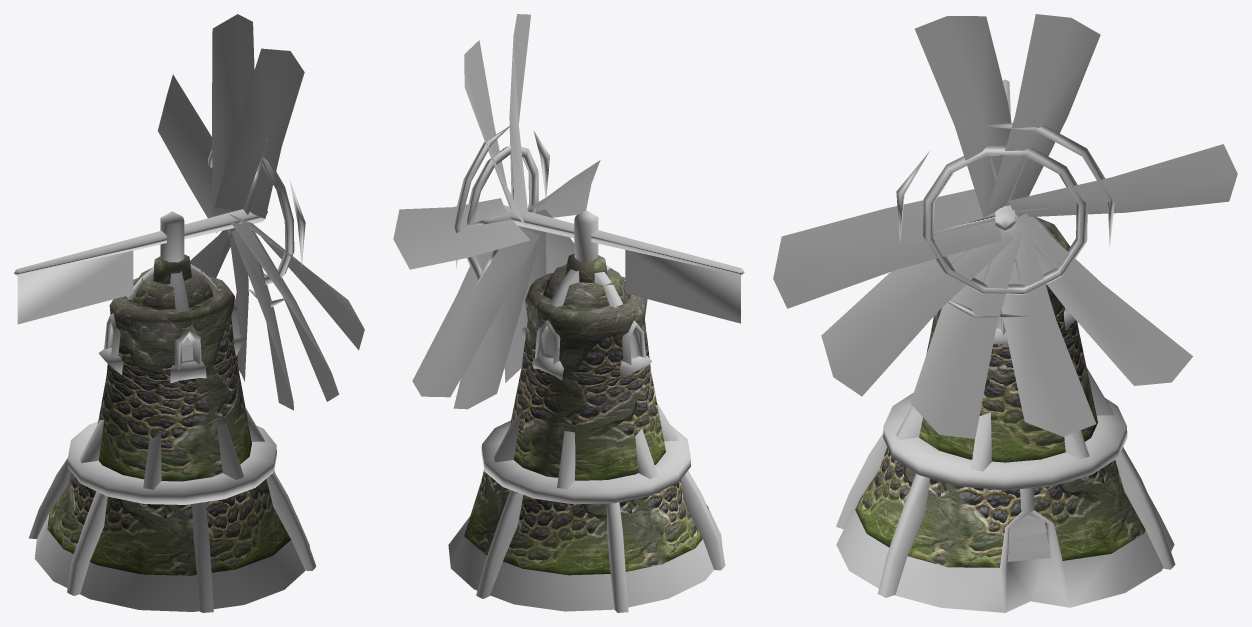
File: tirisfallwindmill.obj
The picture shows the model from 3 angles, left to right: view 1: azimuth 30°, elevation 25°; view 2: azimuth 150°, elevation 25°; view 3: azimuth 270°, elevation 25°; orthographic projection. The views are drawn at different scales.
Parts seen in each view (by area): view 1: TIRISFALLWINDMILL4, TIRISFALLWINDMILL2, TIRISFALLWINDMILL3, TIRISFALLWINDMILL1, TIRISFALLWINDMILL6, TIRISFALLWINDMILL0, TIRISFALLWINDMILL5; view 2: TIRISFALLWINDMILL4, TIRISFALLWINDMILL3, TIRISFALLWINDMILL2, TIRISFALLWINDMILL6, TIRISFALLWINDMILL0, TIRISFALLWINDMILL1, TIRISFALLWINDMILL5; view 3: TIRISFALLWINDMILL4, TIRISFALLWINDMILL3, TIRISFALLWINDMILL2, TIRISFALLWINDMILL6, TIRISFALLWINDMILL1.
Part boxes in pixels (left/top/right/bottom): TIRISFALLWINDMILL4: left=17, top=14, right=364, bottom=612; TIRISFALLWINDMILL2: left=47, top=384, right=272, bottom=575; TIRISFALLWINDMILL3: left=47, top=366, right=290, bottom=575; TIRISFALLWINDMILL1: left=113, top=266, right=228, bottom=396; TIRISFALLWINDMILL6: left=14, top=140, right=305, bottom=383; TIRISFALLWINDMILL0: left=106, top=254, right=237, bottom=393; TIRISFALLWINDMILL5: left=109, top=325, right=198, bottom=365; TIRISFALLWINDMILL4: left=393, top=14, right=740, bottom=612; TIRISFALLWINDMILL3: left=464, top=384, right=708, bottom=575; TIRISFALLWINDMILL2: left=485, top=368, right=702, bottom=575; TIRISFALLWINDMILL6: left=454, top=125, right=744, bottom=379; TIRISFALLWINDMILL0: left=553, top=254, right=643, bottom=395; TIRISFALLWINDMILL1: left=521, top=266, right=650, bottom=391; TIRISFALLWINDMILL5: left=539, top=328, right=641, bottom=358; TIRISFALLWINDMILL4: left=773, top=14, right=1237, bottom=612; TIRISFALLWINDMILL3: left=867, top=331, right=1143, bottom=567; TIRISFALLWINDMILL2: left=855, top=332, right=1155, bottom=567; TIRISFALLWINDMILL6: left=896, top=79, right=1114, bottom=561; TIRISFALLWINDMILL1: left=1002, top=216, right=1078, bottom=364.
Size of the model in its own units: 20.8 by 35.89 by 25.71.
